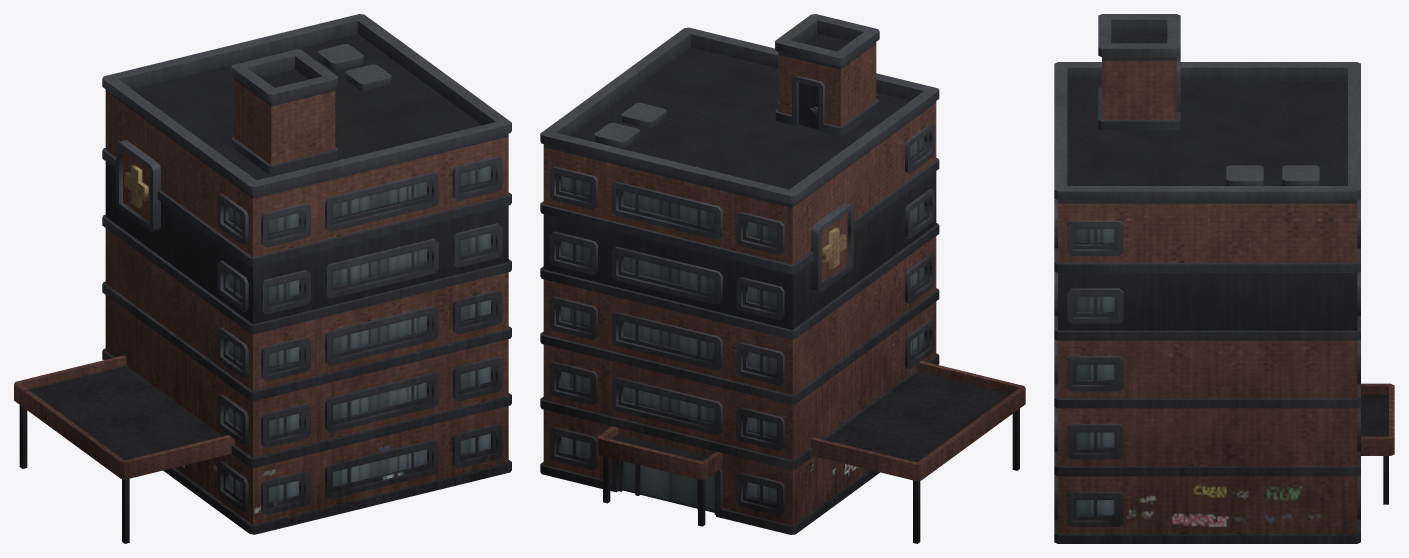
File: building-n-brown-scuffed.glb
The picture shows the model from 3 angles, left to right: view 1: azimuth 30°, elevation 25°; view 2: azimuth 150°, elevation 25°; view 3: azimuth 270°, elevation 25°; orthographic projection. The views are drawn at different scales.
Visible parts, largest first — view 1: building-n; view 2: building-n; view 3: building-n.
Boxes of the visible parts, x1,y1,x2,y2 form: building-n: [14, 14, 511, 543]; building-n: [540, 14, 1025, 543]; building-n: [1054, 14, 1394, 543].
Size of the model in its own units: 2.32 by 2.48 by 1.82.
Materials: 1 (1 with a texture image).
